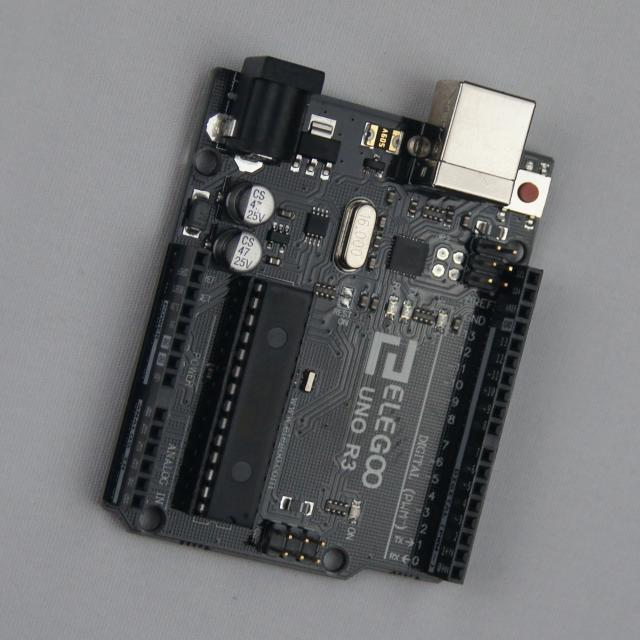Arduino Uno -Black-: (105, 58, 552, 583)
